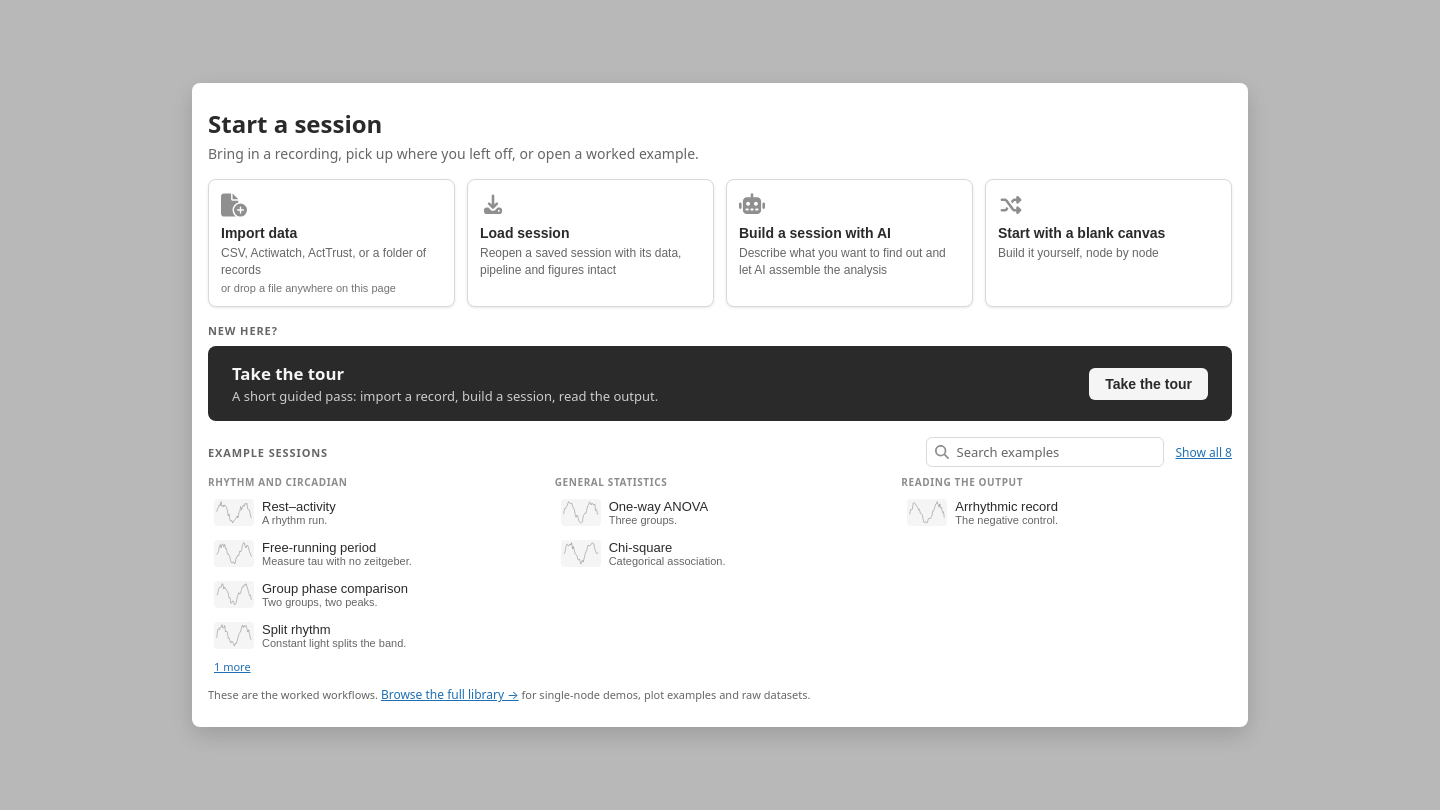
Scenario: search › matches on the keywords too, which name the nodes a session uses
Expected: the list item with class "example-row" showing "Rest–activity A rhythm run." is shown, [208,493,539,532]
In the search field labelled "Search examples": (1054, 452) [954,442,1154,462], type "cosinor"
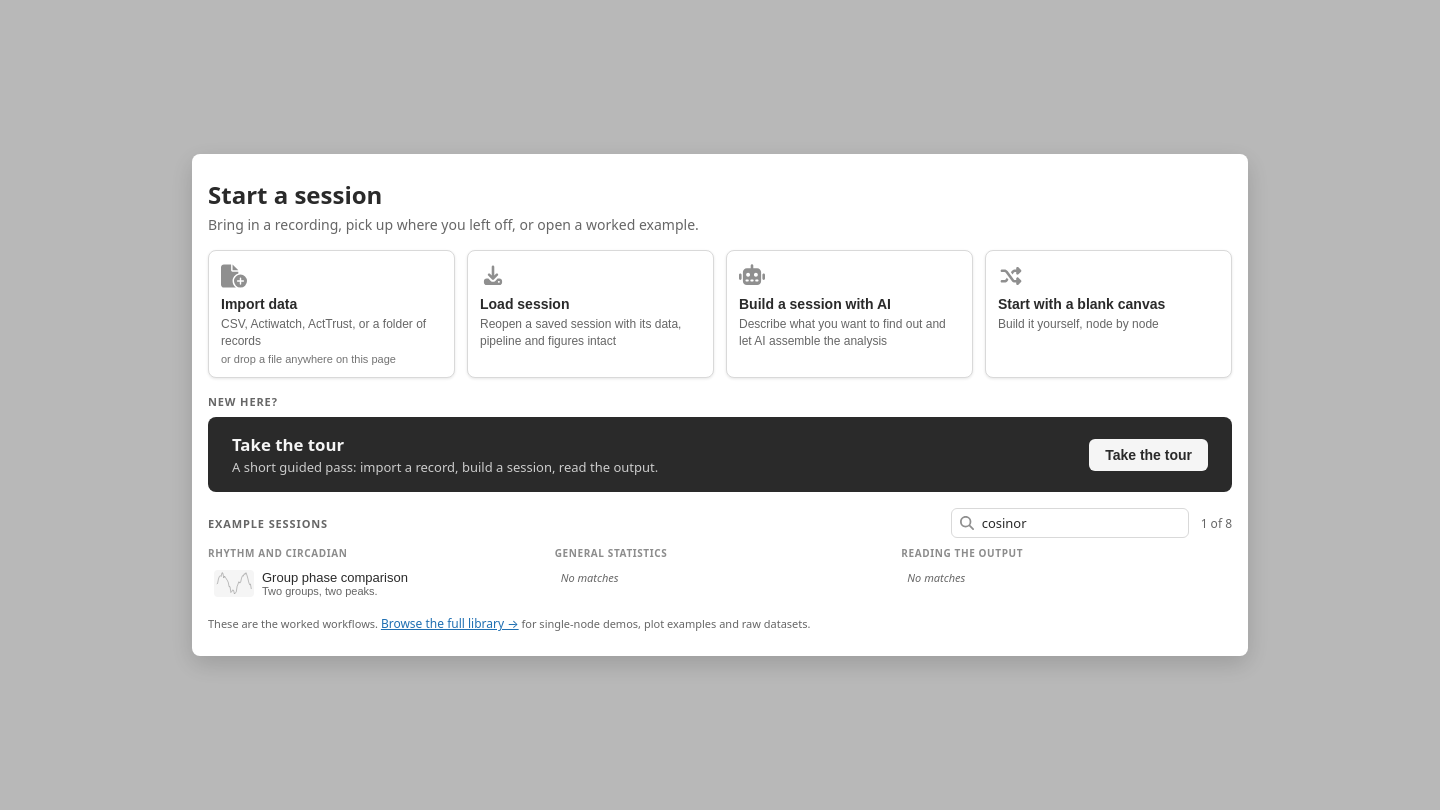
Expected: the text "Group phase comparison" is shown, [262,570,408,585]
Expected: the number of list items with class "example-row" is 1, [208,564,539,603]
Replace the text in the search field named "Search example" with "contingency": (1080, 523) [980,513,1180,533]
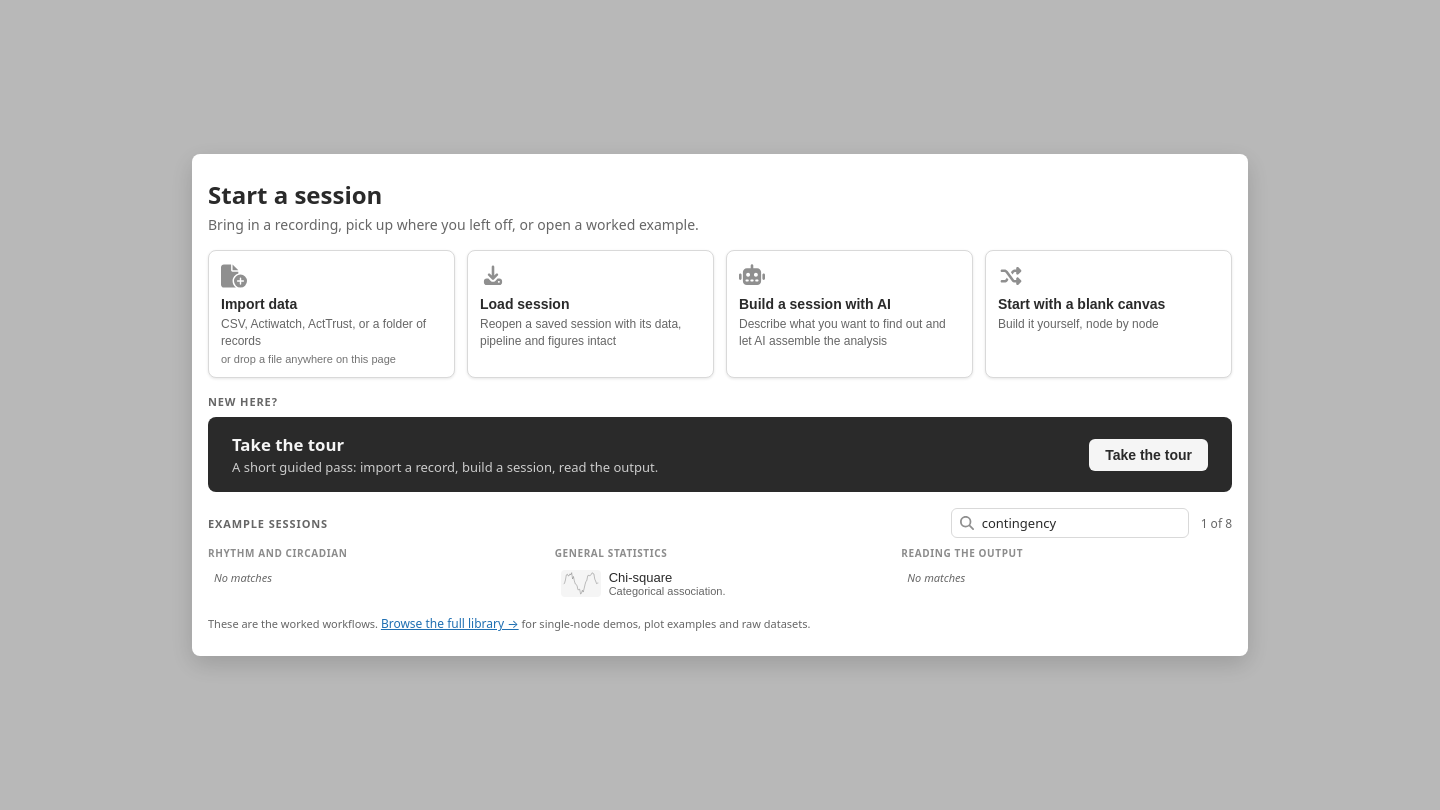
Expected: the number of list items with class "example-row" is 1, [555,564,885,603]
Expected: the text "Chi-square" is shown, [609,570,672,585]
